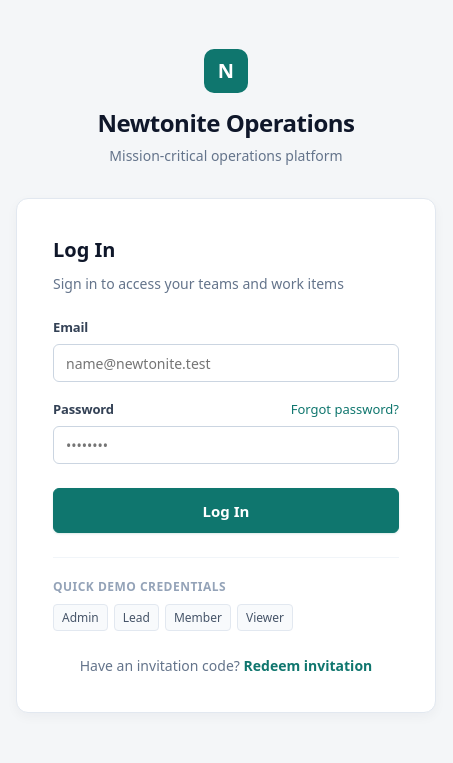
Login Page › submits credentials and displays error message on invalid credentials
The width and height of the screenshot is (453, 763).
Type "user@example.com" into the field labelled "Email" at x=226, y=363, box [53,344,399,382]
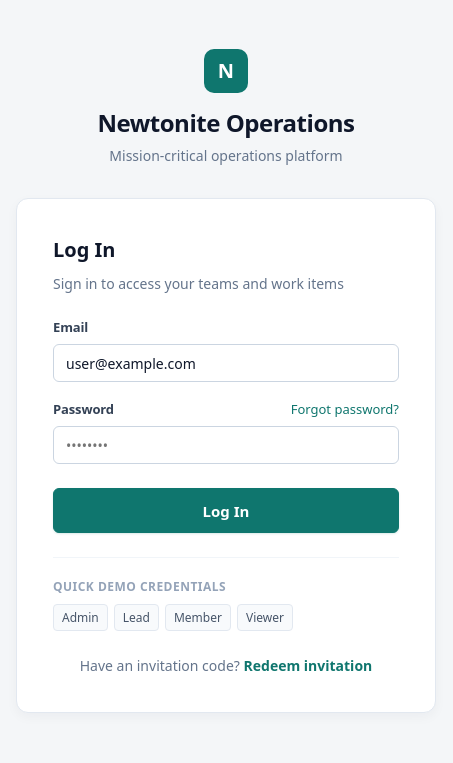
Type "wrongpass" into the password field labelled "Password" at x=226, y=445, box [53,426,399,464]
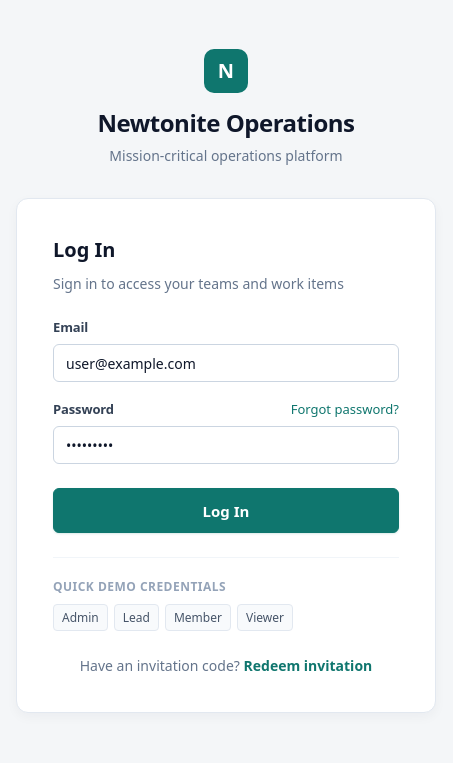
Click the button "Log In" at x=226, y=511, box [53,488,399,533]
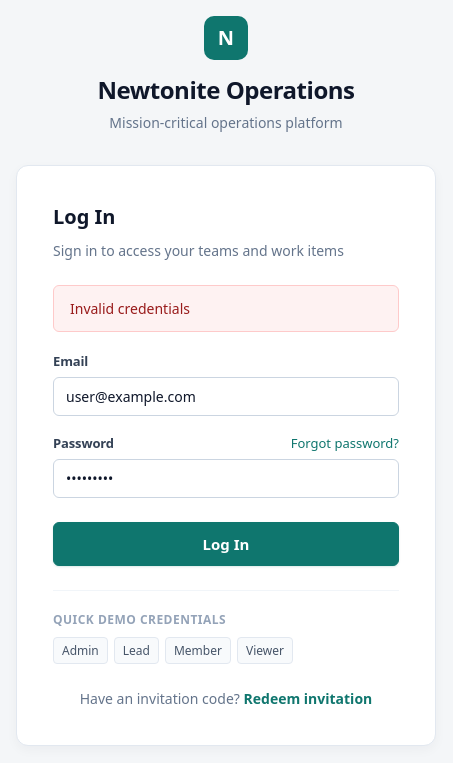
Check: the message "Invalid credentials" is shown, box [53,285,399,332]
Check: the message reads "Invalid credentials", box [70,299,190,318]
